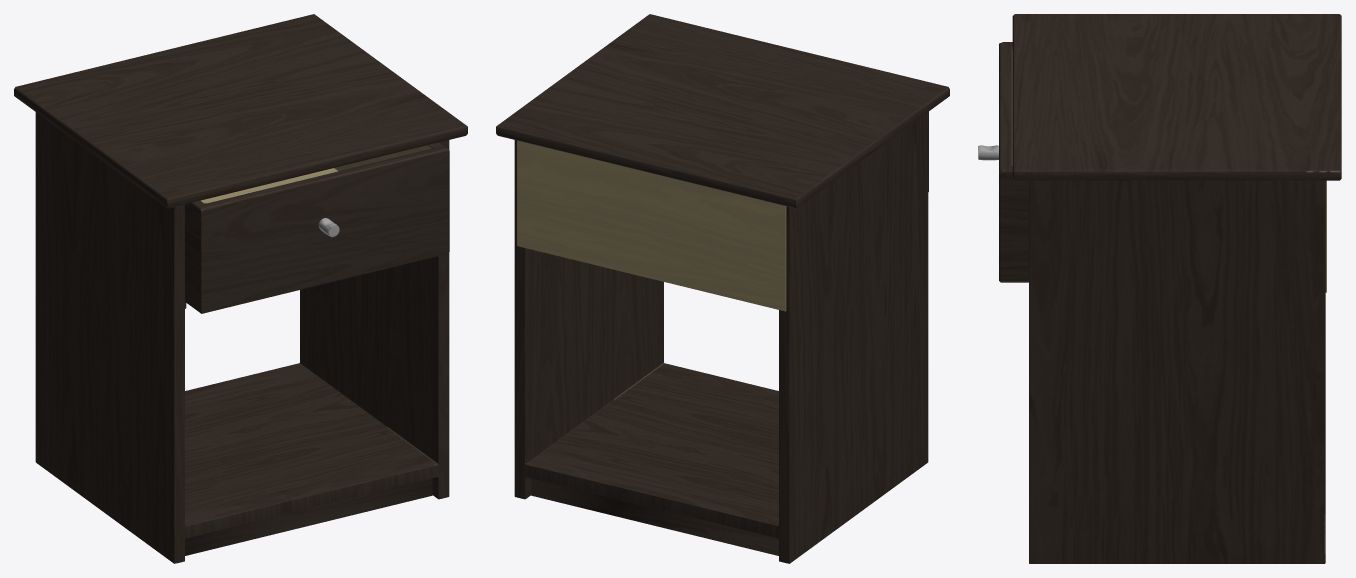
File: night_table.001.fbx
3 views of the same model, side by side, from view 1: azimuth 30°, elevation 25°; view 2: azimuth 150°, elevation 25°; view 3: azimuth 270°, elevation 25° (orthographic). The views are drawn at different scales.
Visible parts, largest first — view 1: night_table.001_Baked; view 2: night_table.001_Baked; view 3: night_table.001_Baked.
Boxes of the visible parts, x1,y1,x2,y2 form: night_table.001_Baked: (14, 14, 467, 563); night_table.001_Baked: (496, 14, 949, 563); night_table.001_Baked: (978, 14, 1341, 563).
Size of the model in its own units: 56.96 by 67.5 by 55.59.
Materials: 1 (1 with a texture image).
